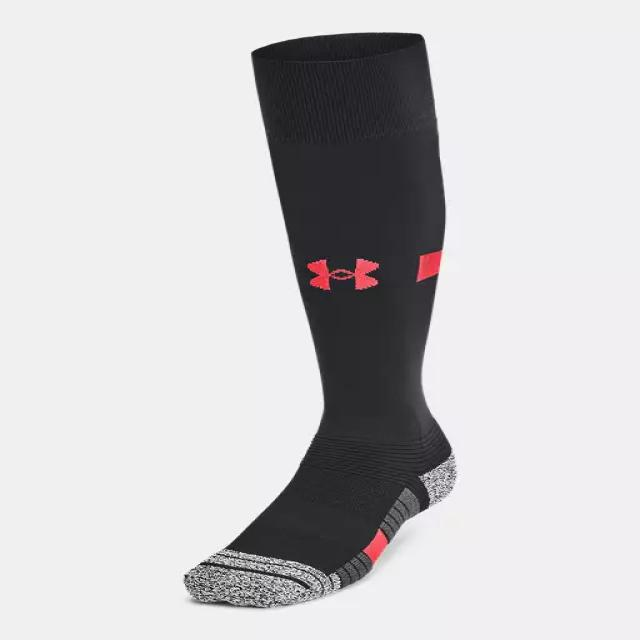sock: (182, 31, 458, 607)
